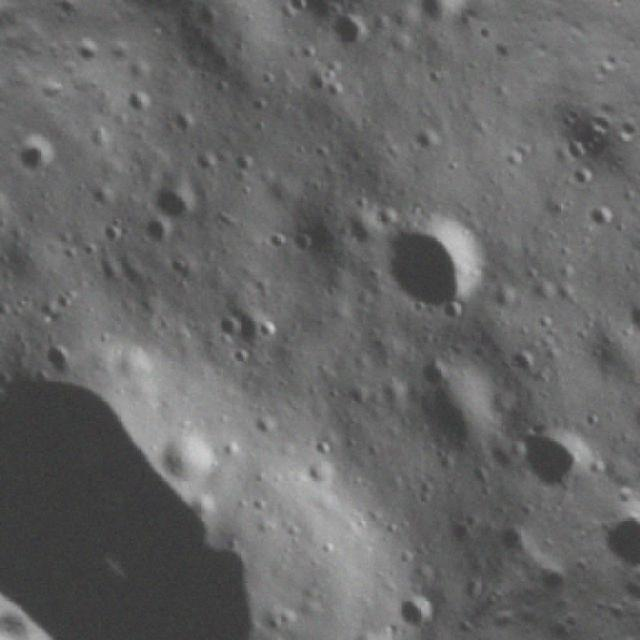crater: (0, 291, 358, 640), (349, 169, 514, 333), (383, 340, 526, 482), (496, 408, 598, 509), (122, 158, 203, 239), (382, 578, 446, 640), (9, 136, 72, 198), (329, 607, 412, 640), (0, 242, 8, 329)
